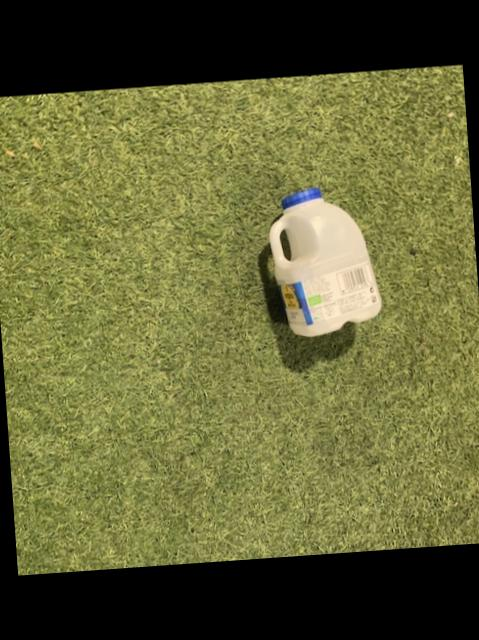plastic: (266, 189, 377, 337)
